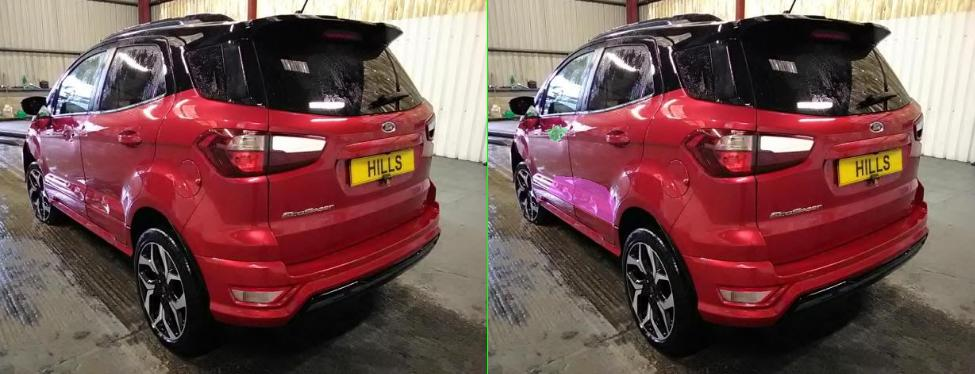Broken part: (116, 125, 156, 141)
Dent: (118, 176, 254, 223), (136, 183, 220, 213)
